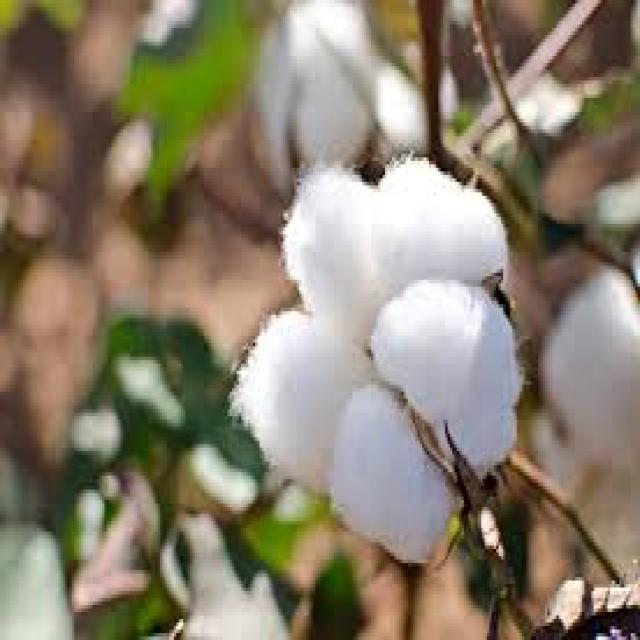Matured Cotton Boll: (226, 168, 530, 562)
